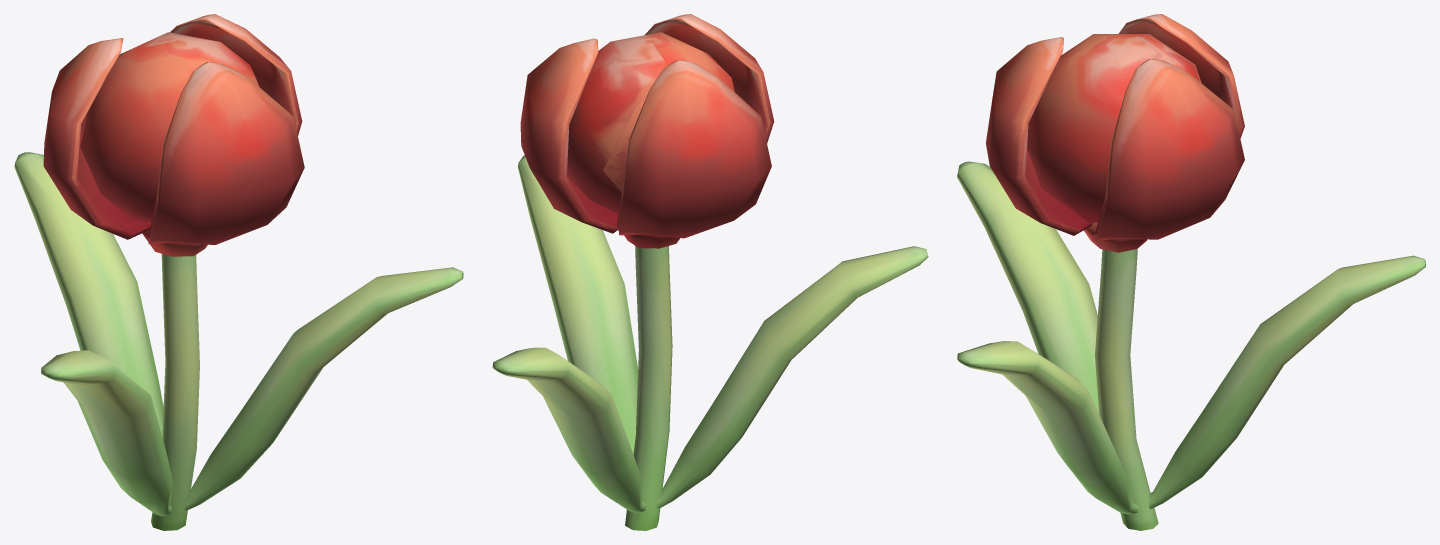
File: Flower.fbx
The picture shows the model from 3 angles, left to right: view 1: azimuth 30°, elevation 25°; view 2: azimuth 150°, elevation 25°; view 3: azimuth 270°, elevation 25°; orthographic projection. The views are drawn at different scales.
Visible parts, largest first — view 1: Flower; view 2: Flower; view 3: Flower.
Boxes of the visible parts, x1=… form: Flower: x1=14, y1=14, x2=463, y2=530; Flower: x1=492, y1=14, x2=928, y2=530; Flower: x1=957, y1=14, x2=1425, y2=530.
Bounding box in the file's own units: 48.22 × 54.22 × 47.51.
6 materials, 6 textured.
